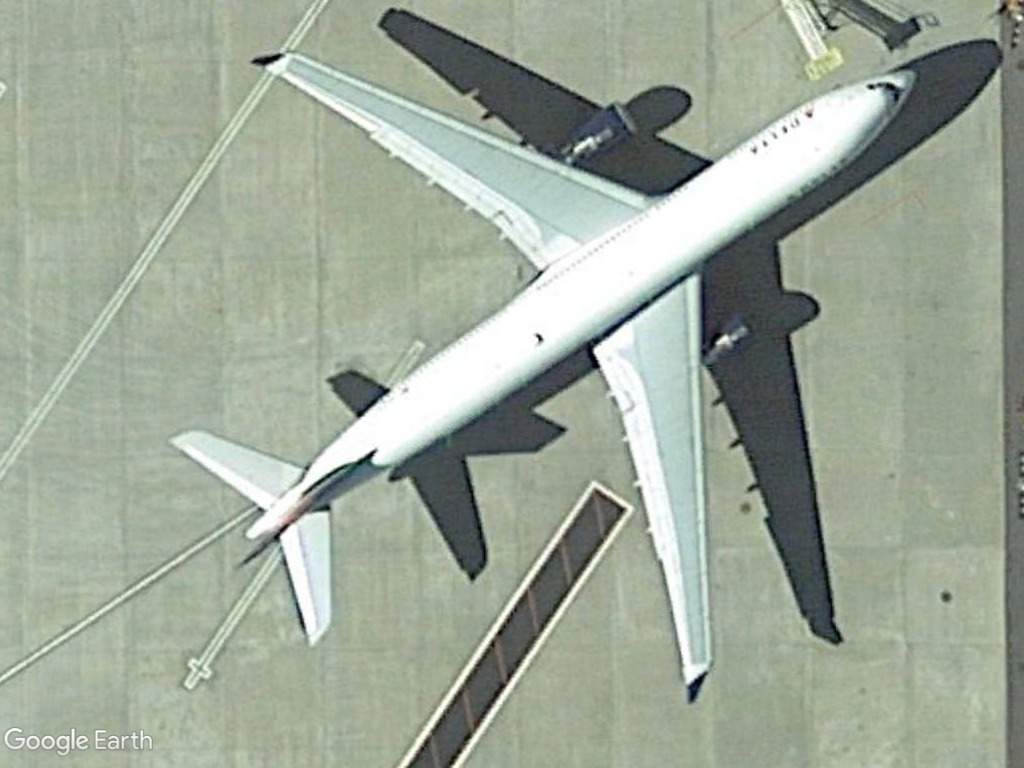airliner: (160, 59, 928, 707)
